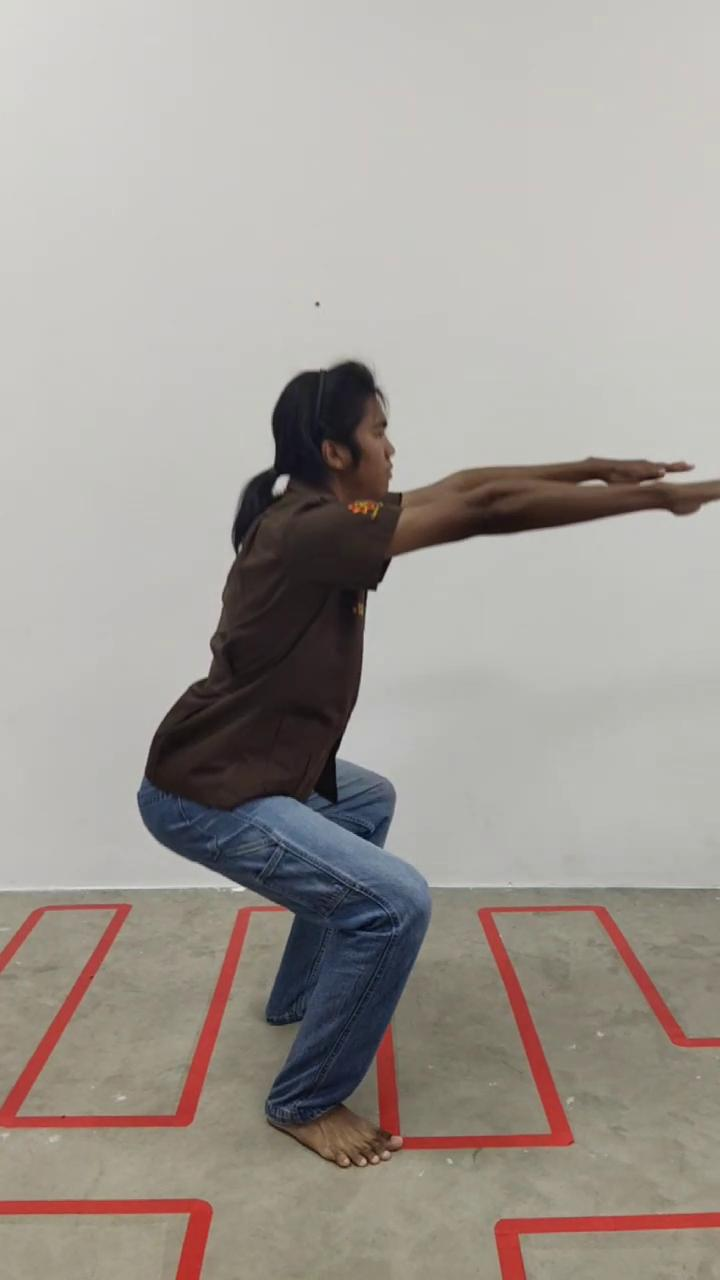squat down: (138, 361, 720, 1174)
